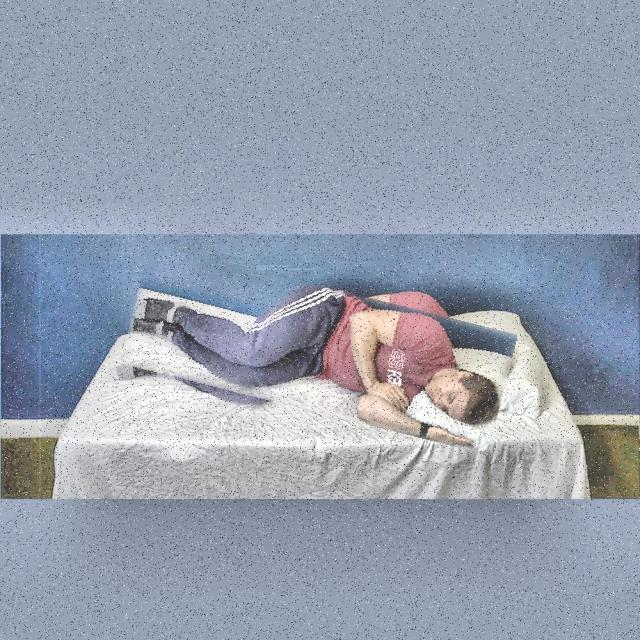Not_Supine: (132, 285, 501, 446)
